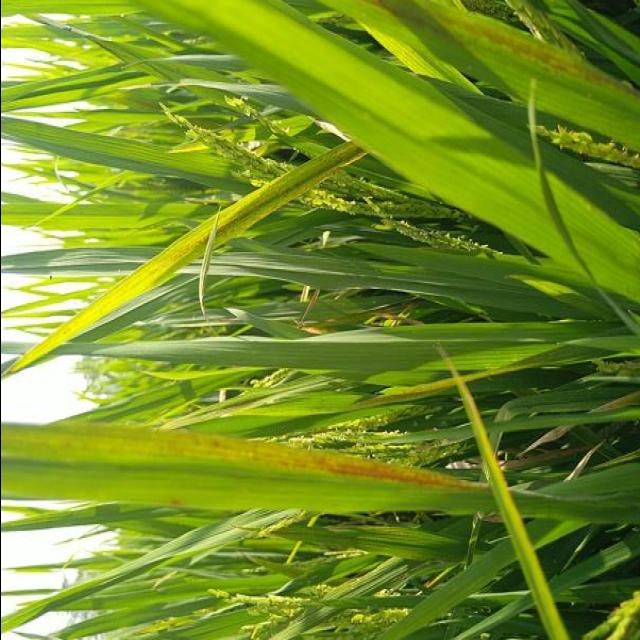Leaf Streak: (145, 149, 367, 293), (136, 430, 489, 490), (424, 0, 617, 82), (120, 494, 195, 510)
